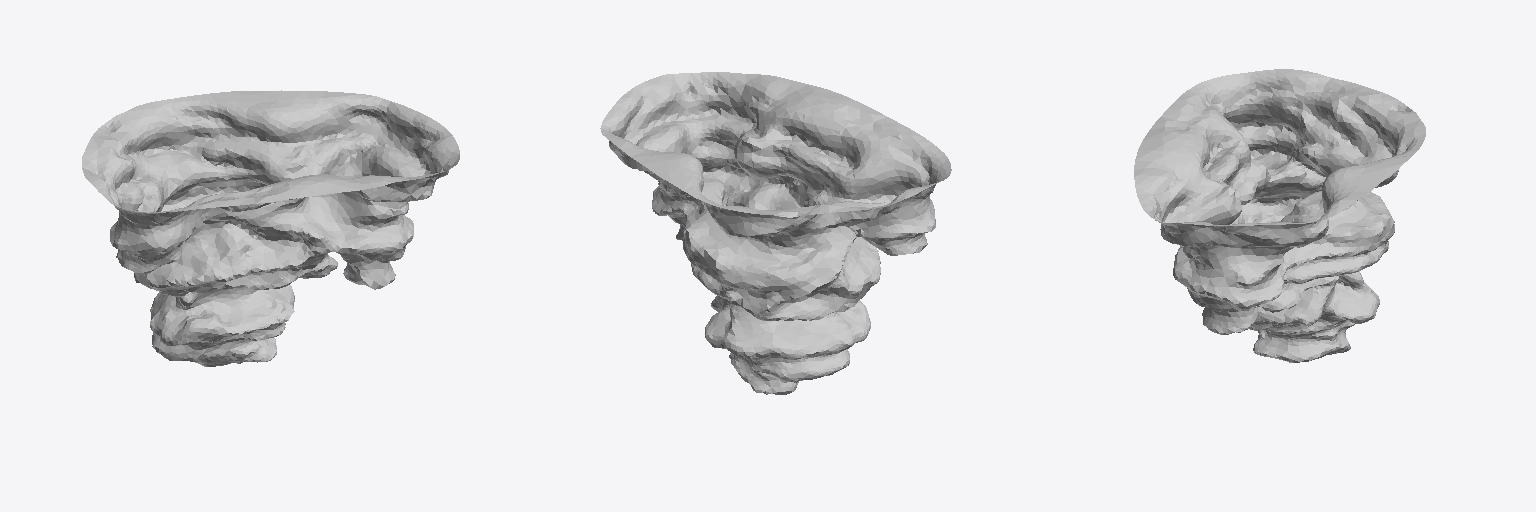
Rendered from FloatingIsland.obj.
3 renders of one model, left to right at view 1: azimuth 30°, elevation 25°; view 2: azimuth 150°, elevation 25°; view 3: azimuth 270°, elevation 25°, orthographic.
Parts seen in each view (by area): view 1: LargeCaveRock; view 2: LargeCaveRock; view 3: LargeCaveRock.
Part boxes in pixels (x1,y1,x2,y2): LargeCaveRock: (82, 90, 459, 366); LargeCaveRock: (600, 72, 951, 394); LargeCaveRock: (1134, 69, 1425, 362).
Size of the model in its own units: 2.79 by 1.9 by 2.18.